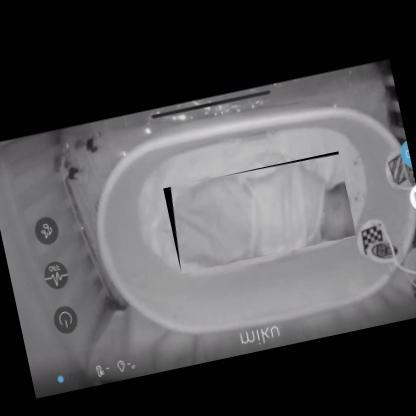baby: (175, 163, 357, 271)
